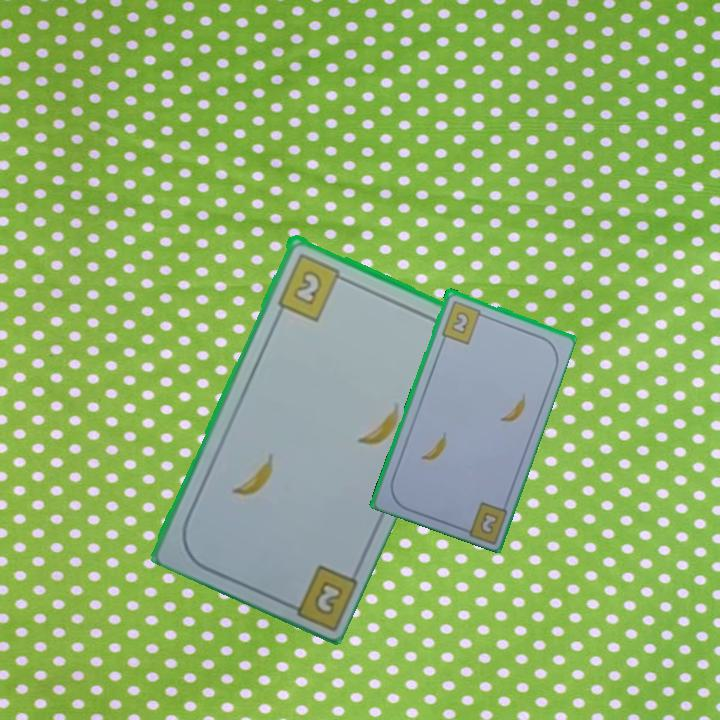2b: (273, 249, 350, 323), (278, 560, 359, 630), (438, 297, 489, 346), (478, 511, 499, 535)
